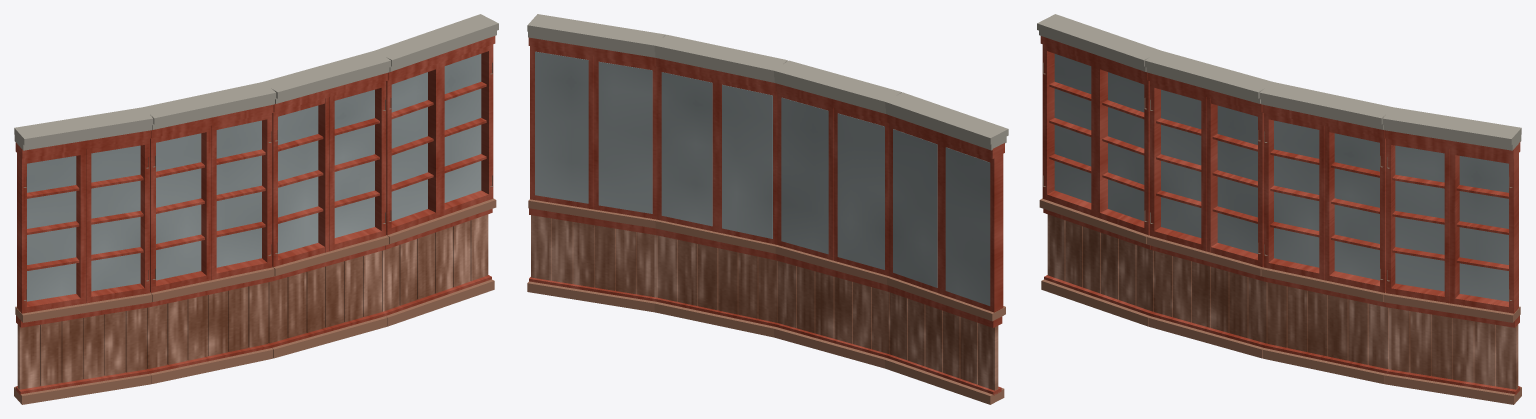
File: zhang-xiaoyi-red-eight-light-bay-near.glb
3 renders of one model, left to right at view 1: azimuth 30°, elevation 25°; view 2: azimuth 150°, elevation 25°; view 3: azimuth 330°, elevation 25°, orthographic.
Visible parts, largest first — view 1: 张小乙宅临街浅凸窗的八扇红框四格窗; view 2: 张小乙宅临街浅凸窗的八扇红框四格窗; view 3: 张小乙宅临街浅凸窗的八扇红框四格窗.
Boxes of the visible parts, x1,y1,x2,y2 form: 张小乙宅临街浅凸窗的八扇红框四格窗: [14, 14, 498, 404]; 张小乙宅临街浅凸窗的八扇红框四格窗: [527, 14, 1008, 404]; 张小乙宅临街浅凸窗的八扇红框四格窗: [1037, 14, 1521, 404].
Size of the model in its own units: 3.96 by 2.14 by 0.43.
6 materials, 3 textured.
